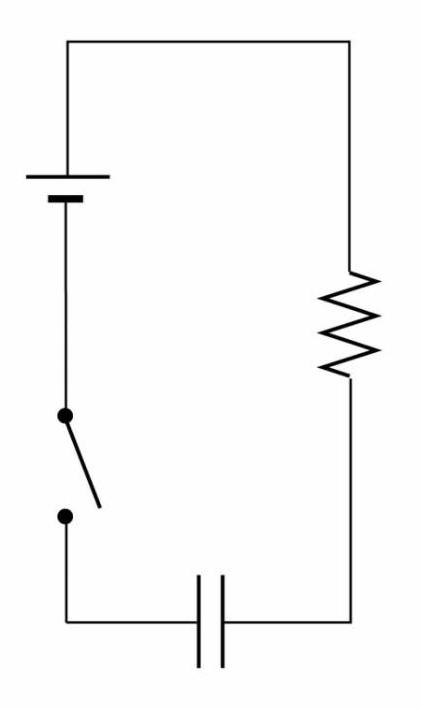resistor: (312, 247, 394, 393)
